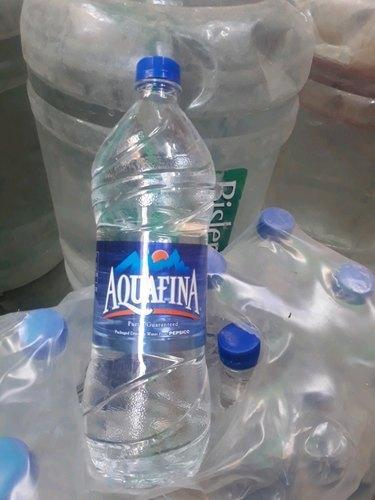bottle: (78, 43, 220, 496)
